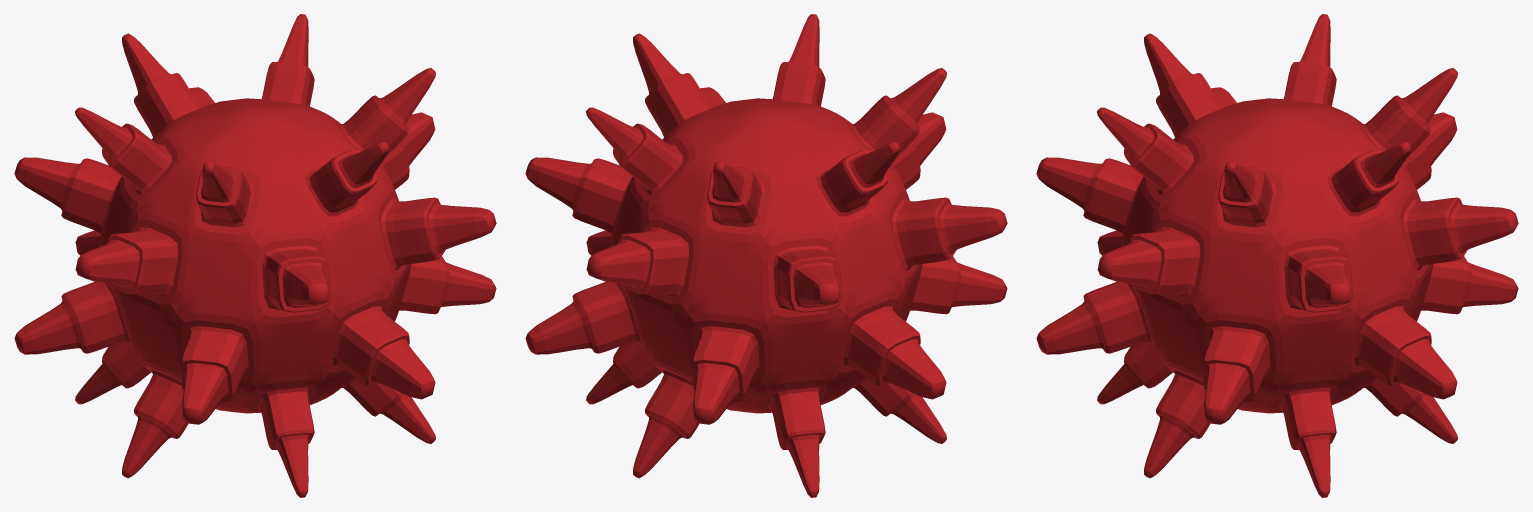
File: space_mine.FBX
The picture shows the model from 3 angles, left to right: view 1: azimuth 30°, elevation 25°; view 2: azimuth 150°, elevation 25°; view 3: azimuth 270°, elevation 25°; orthographic projection.
Parts seen in each view (by area): view 1: Sphere001; view 2: Sphere001; view 3: Sphere001.
Part boxes in pixels (x1,y1,x2,y2): Sphere001: (14,14,496,497); Sphere001: (525,14,1007,497); Sphere001: (1036,14,1518,497).
Size of the model in its own units: 24.1 by 18.44 by 24.1.
Materials: 1 (1 with a texture image).
